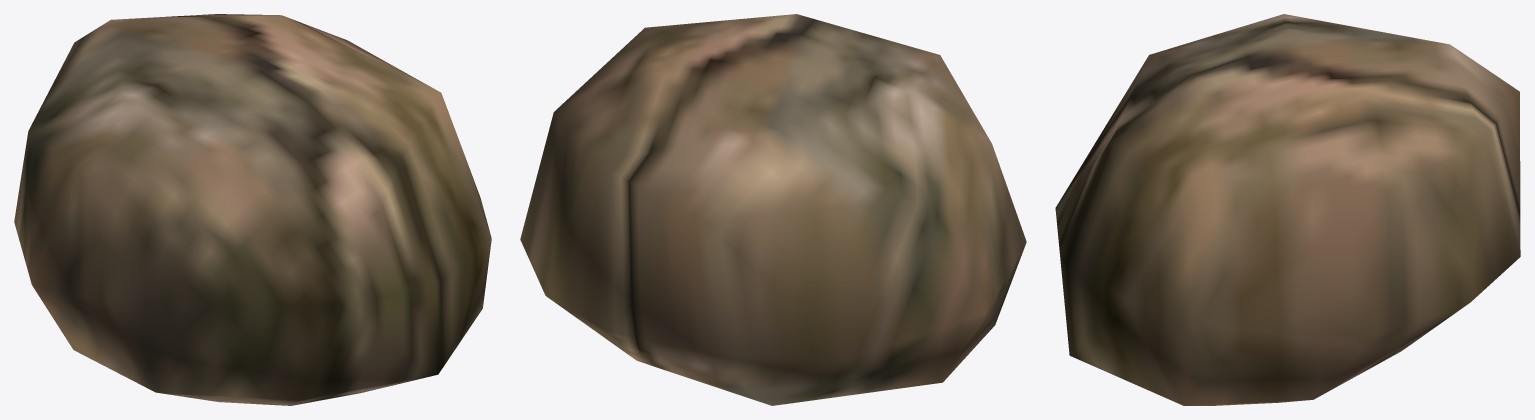
File: TOMS_ROCK.fbx
3 views of the same model, side by side, from view 1: azimuth 30°, elevation 25°; view 2: azimuth 150°, elevation 25°; view 3: azimuth 270°, elevation 25° (orthographic). The views are drawn at different scales.
Visible parts, largest first — view 1: TOMS_ROCK; view 2: TOMS_ROCK; view 3: TOMS_ROCK.
Part boxes in pixels (x1,y1,x2,y2): TOMS_ROCK: (14, 14, 491, 405); TOMS_ROCK: (520, 14, 1026, 405); TOMS_ROCK: (1055, 14, 1520, 405).
Bounding box in the file's own units: 11006 × 8062 × 10840.
1 material, 1 textured.
